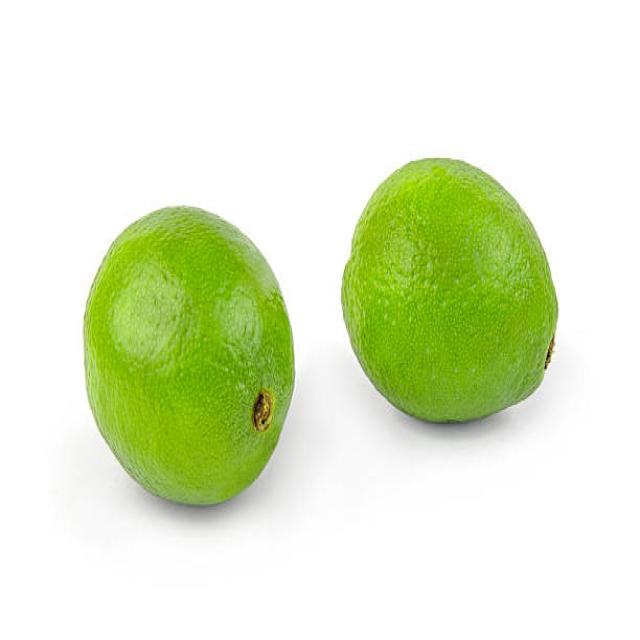Unripe: (81, 202, 296, 509), (340, 158, 560, 424)
